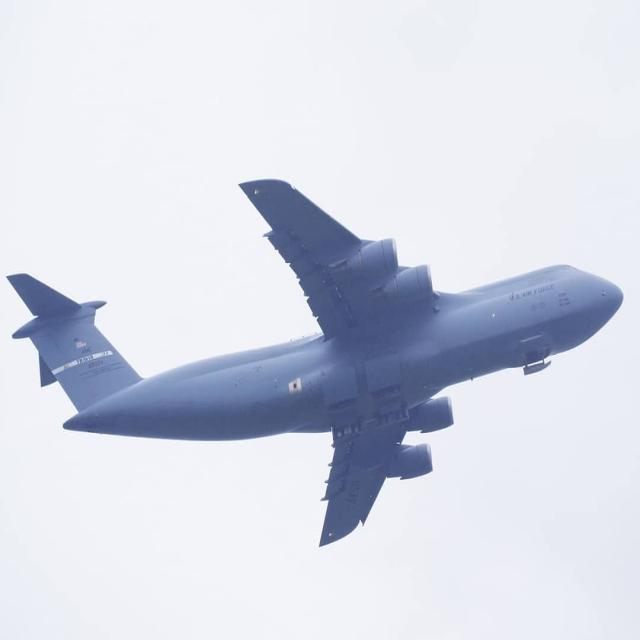MIL_Plane: (5, 179, 623, 546)
